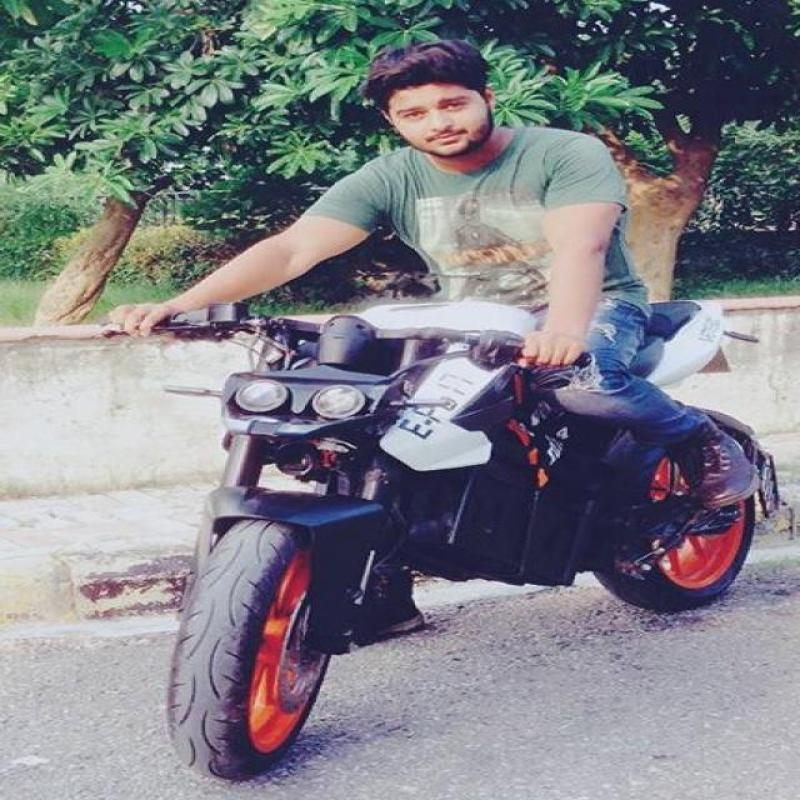nohelmet: (339, 34, 529, 152)
